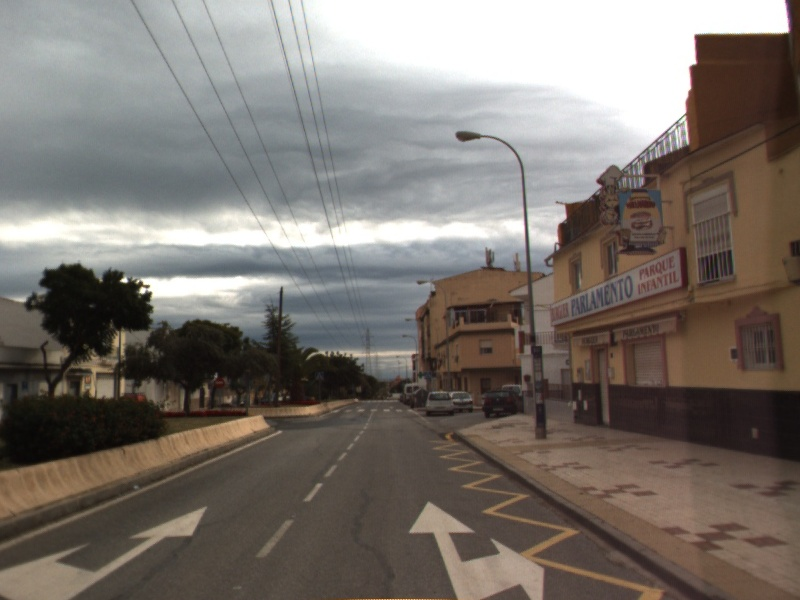STRAIGHT_LEFT: (1, 502, 210, 600)
STRAIGHT_RIGHT: (405, 498, 546, 600)
